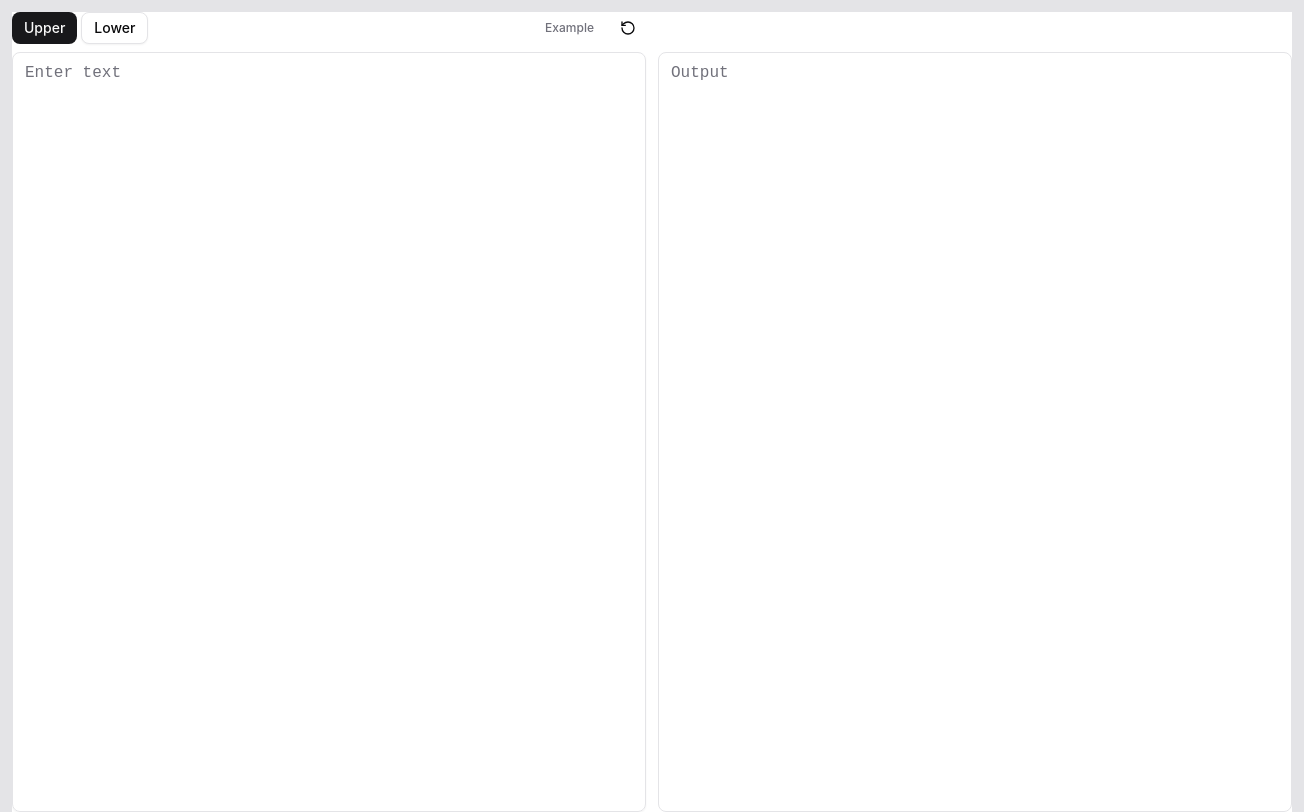
Test: adoptOutputOnModeChange swaps output into input when switching modes
What coordinates should you click on to do the following:
click the button "Example"
I would click on:
 (570, 28)
Its box is [533,12,606,44].
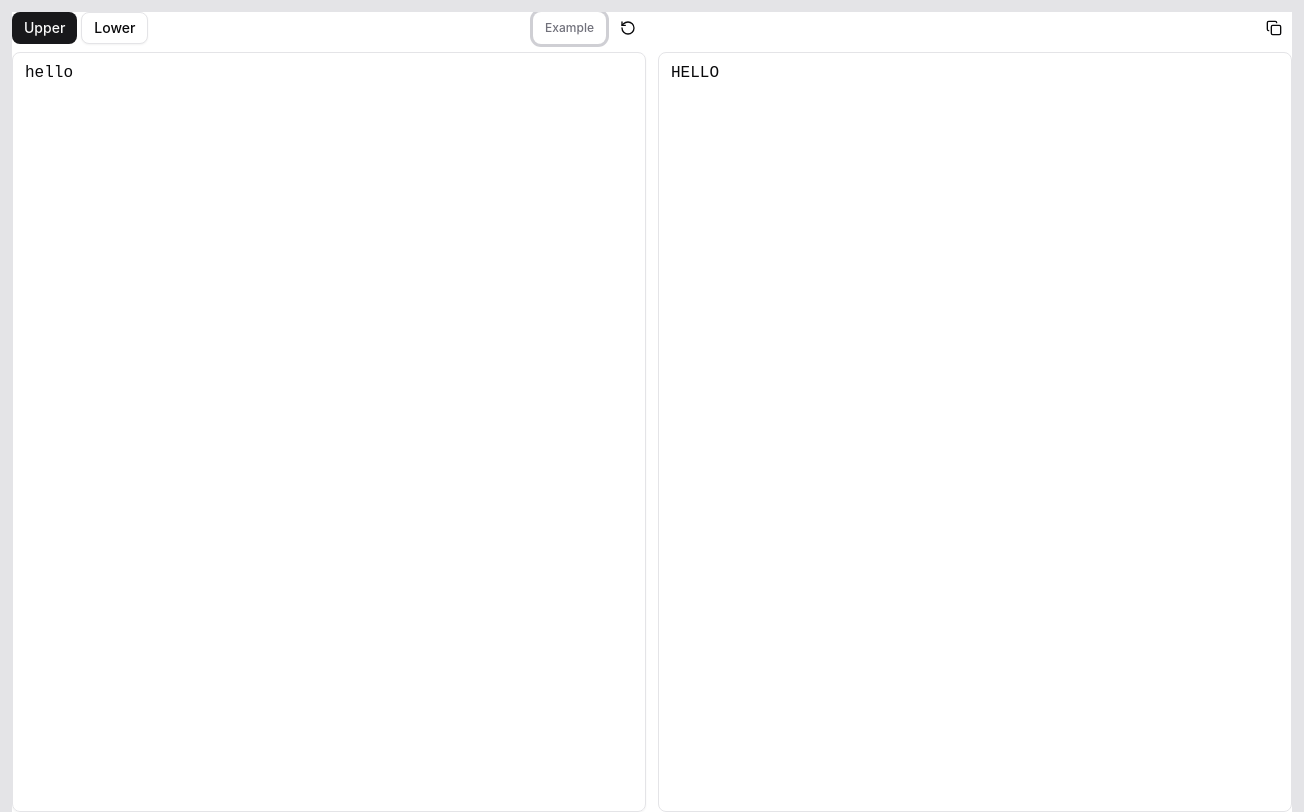
Result: the text "HELLO" is shown at [671,64,719,82]
What coordinates should you click on to do the following:
click the button "Lower"
I would click on:
 (115, 28)
Its box is [81,12,148,44].
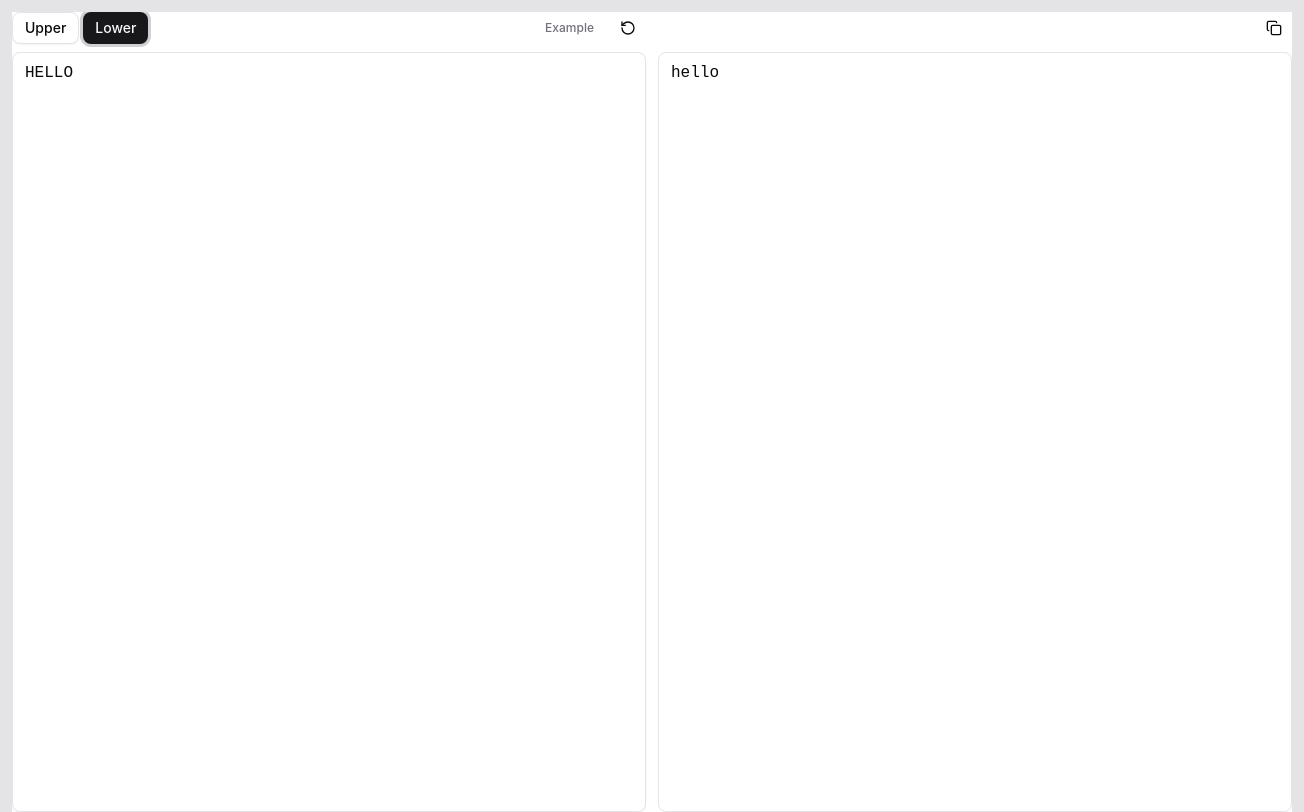
Result: the text box with placeholder "Enter text" holds "HELLO" at [12,52,646,811]
Result: the text "hello" is shown at [671,64,719,82]
